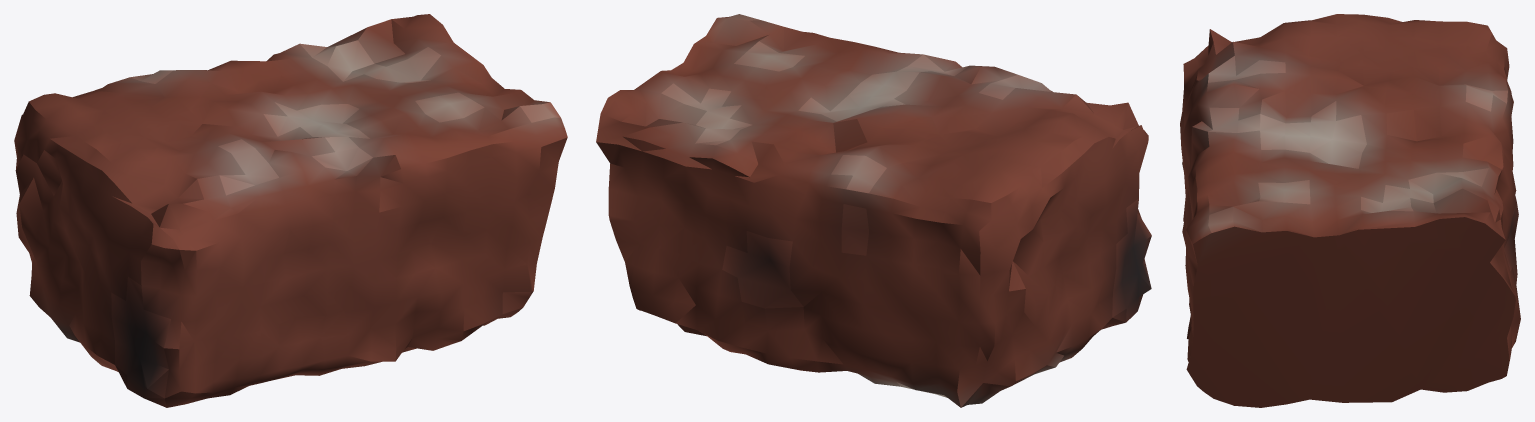
File: ember_brick_chunk_a.glb
The picture shows the model from 3 angles, left to right: view 1: azimuth 30°, elevation 25°; view 2: azimuth 150°, elevation 25°; view 3: azimuth 270°, elevation 25°; orthographic projection.
Parts seen in each view (by area): view 1: ember_brick_chunk_a; view 2: ember_brick_chunk_a; view 3: ember_brick_chunk_a.
Part boxes in pixels (x1=…): ember_brick_chunk_a: x1=14, y1=14, x2=567, y2=407; ember_brick_chunk_a: x1=596, y1=14, x2=1151, y2=407; ember_brick_chunk_a: x1=1180, y1=14, x2=1520, y2=407.
Bounding box in the file's own units: 7.4 × 3.92 × 5.14.
